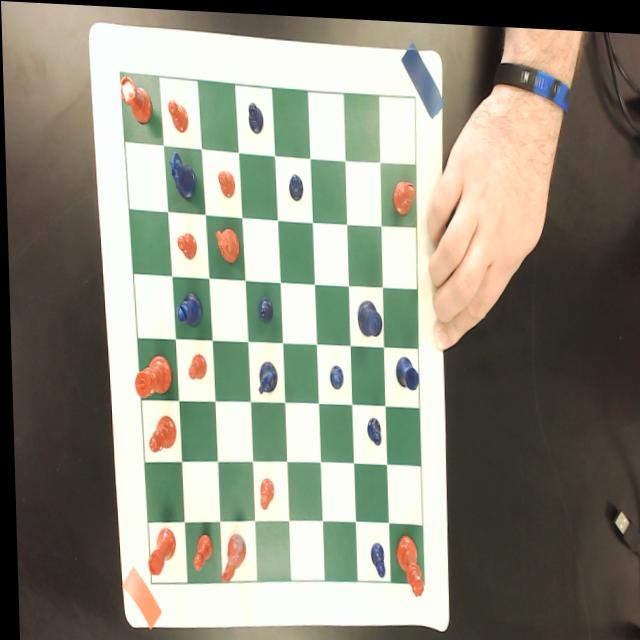B: (174, 287, 200, 324)
K: (355, 294, 379, 333)
N: (167, 147, 195, 199), (254, 357, 274, 392)
P: (366, 536, 383, 577), (246, 97, 263, 132), (363, 411, 379, 442), (286, 169, 302, 200), (255, 294, 271, 321), (326, 359, 341, 386)
R: (392, 351, 417, 387)
b: (143, 408, 174, 451), (390, 173, 415, 211)
k: (131, 351, 169, 396)
n: (216, 526, 243, 581), (211, 219, 238, 262)
p: (188, 528, 209, 569), (166, 96, 188, 132), (215, 165, 234, 196), (175, 229, 195, 258), (255, 473, 271, 508), (184, 350, 204, 378)
q: (391, 529, 420, 593)
r: (118, 70, 152, 125), (141, 524, 174, 575)
